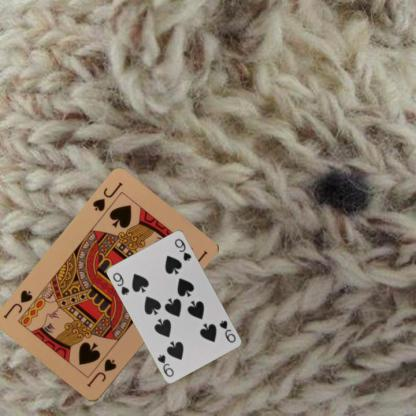9s: (110, 270, 131, 296), (218, 318, 238, 344)
Js: (84, 356, 118, 389), (90, 180, 124, 213)
